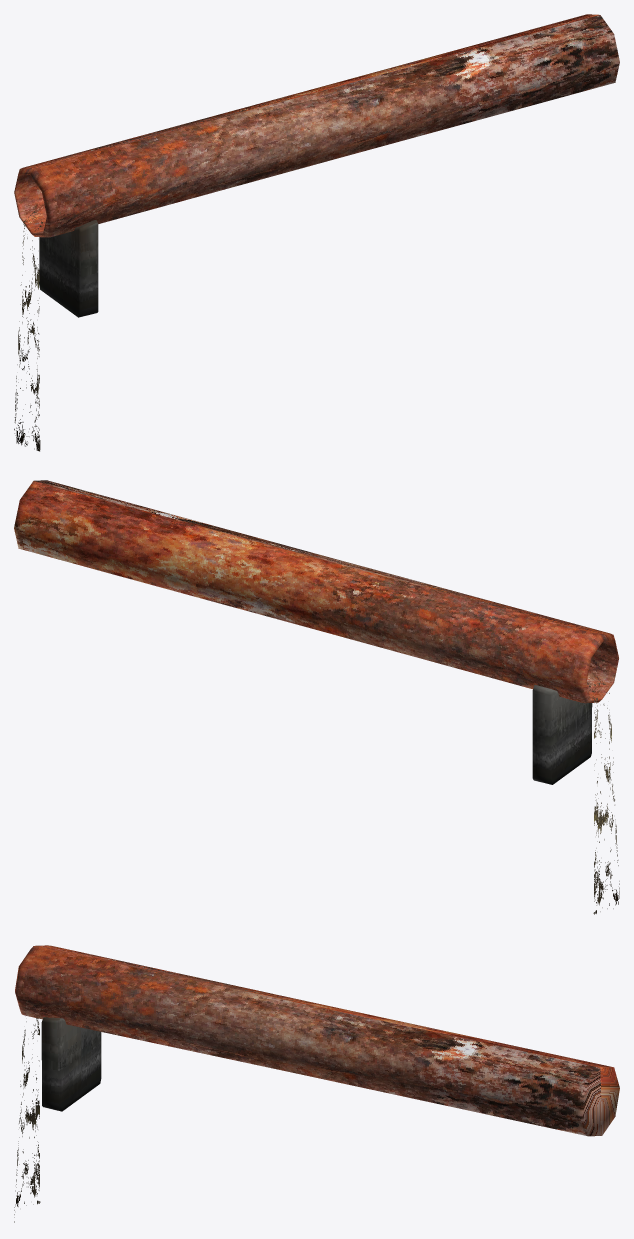
File: Desague.glb
The picture shows the model from 3 angles, top to bottom: view 1: azimuth 30°, elevation 25°; view 2: azimuth 150°, elevation 25°; view 3: azimuth 330°, elevation 25°; orthographic projection.
Visible parts, largest first — view 1: Cube.034, Cube.054, Plane.001; view 2: Cube.034, Cube.054, Plane.001; view 3: Cube.034, Cube.054, Plane.001.
Boxes of the visible parts, bbox=[...] form: Cube.034: bbox=[14, 14, 619, 237]; Cube.054: bbox=[39, 220, 98, 317]; Plane.001: bbox=[14, 209, 43, 451]; Cube.034: bbox=[14, 480, 618, 703]; Cube.054: bbox=[532, 685, 592, 784]; Plane.001: bbox=[587, 673, 619, 914]; Cube.034: bbox=[15, 945, 619, 1136]; Cube.054: bbox=[41, 1017, 101, 1111]; Plane.001: bbox=[14, 1018, 40, 1222].
Bounding box in the file's own units: 3.02 × 1.41 × 0.3756.
3 materials, 3 textured.
